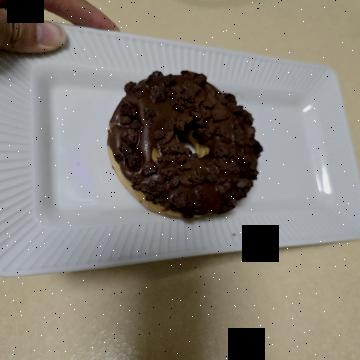doughnut: (56, 88, 238, 270)
